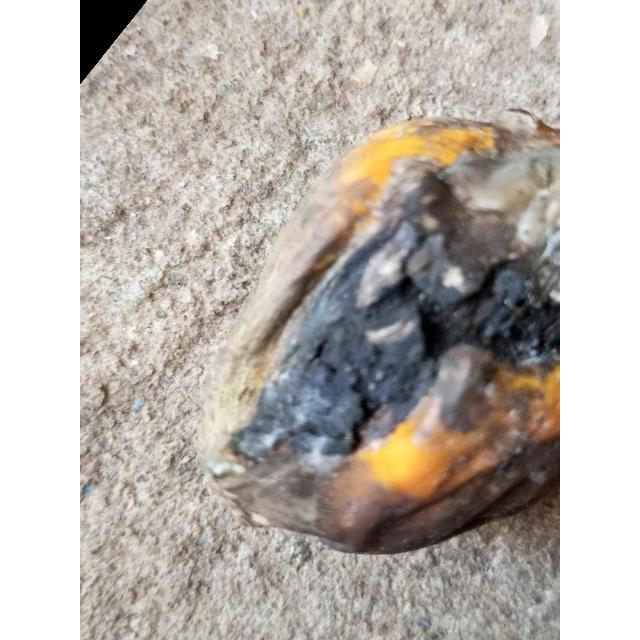damaged: (196, 112, 560, 559)
